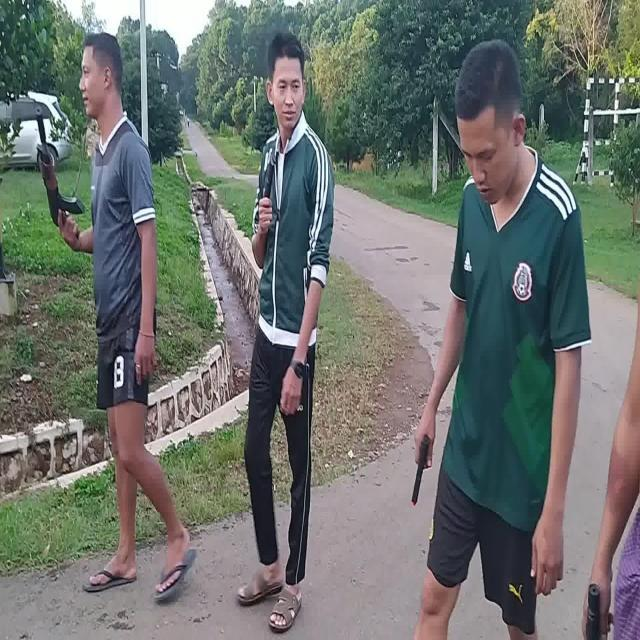gun: (36, 108, 86, 236), (412, 438, 429, 505)
